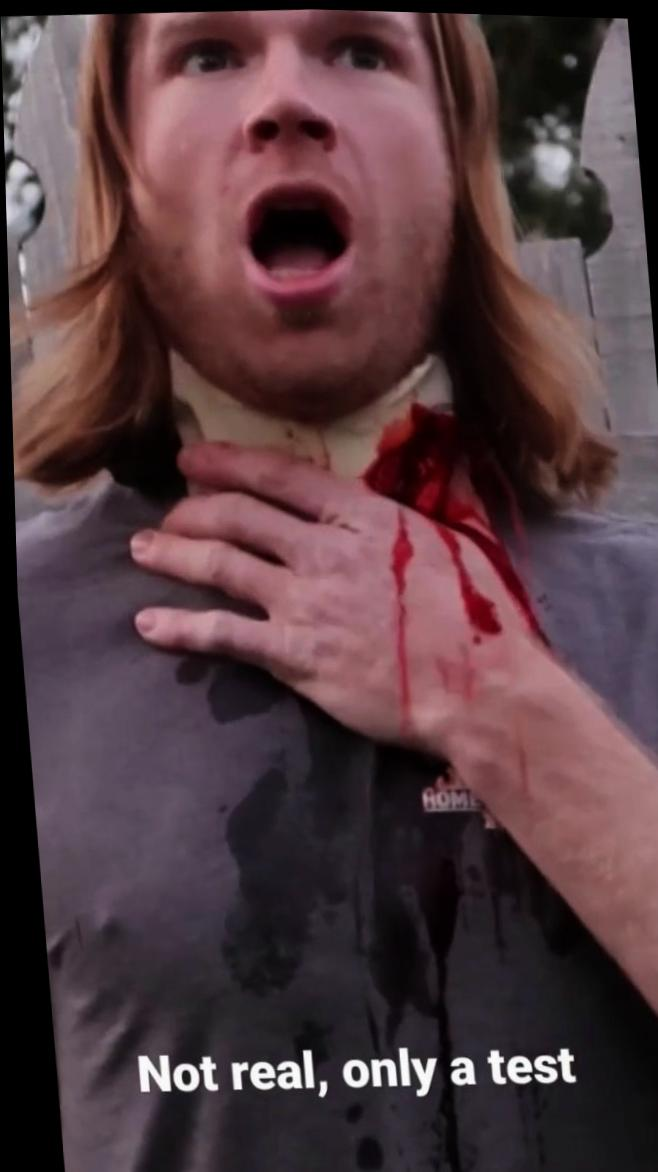Fire: (360, 401, 541, 637), (432, 522, 498, 641), (386, 506, 411, 740)
